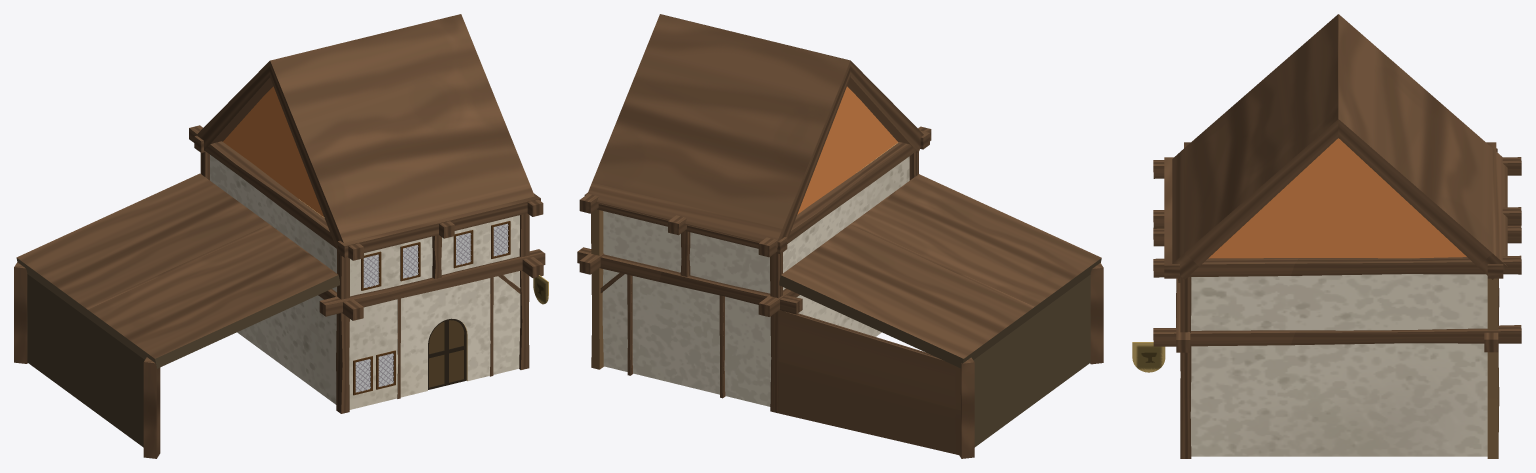
The model's file is BlackSmit h  #LOD.fbx.
The picture shows the model from 3 angles, left to right: view 1: azimuth 30°, elevation 25°; view 2: azimuth 150°, elevation 25°; view 3: azimuth 270°, elevation 25°; orthographic projection. The views are drawn at different scales.
Parts seen in each view (by area): view 1: Blacksmith_LOD0; view 2: Blacksmith_LOD0; view 3: Blacksmith_LOD0.
Part boxes in pixels (x1,y1,x2,y2): Blacksmith_LOD0: (14,14,548,458); Blacksmith_LOD0: (577,14,1103,458); Blacksmith_LOD0: (1132,14,1521,458).
Size of what is drawn, in the model's own units: 20.9 by 15.42 by 15.88.
Materials: 12 (3 with a texture image).
